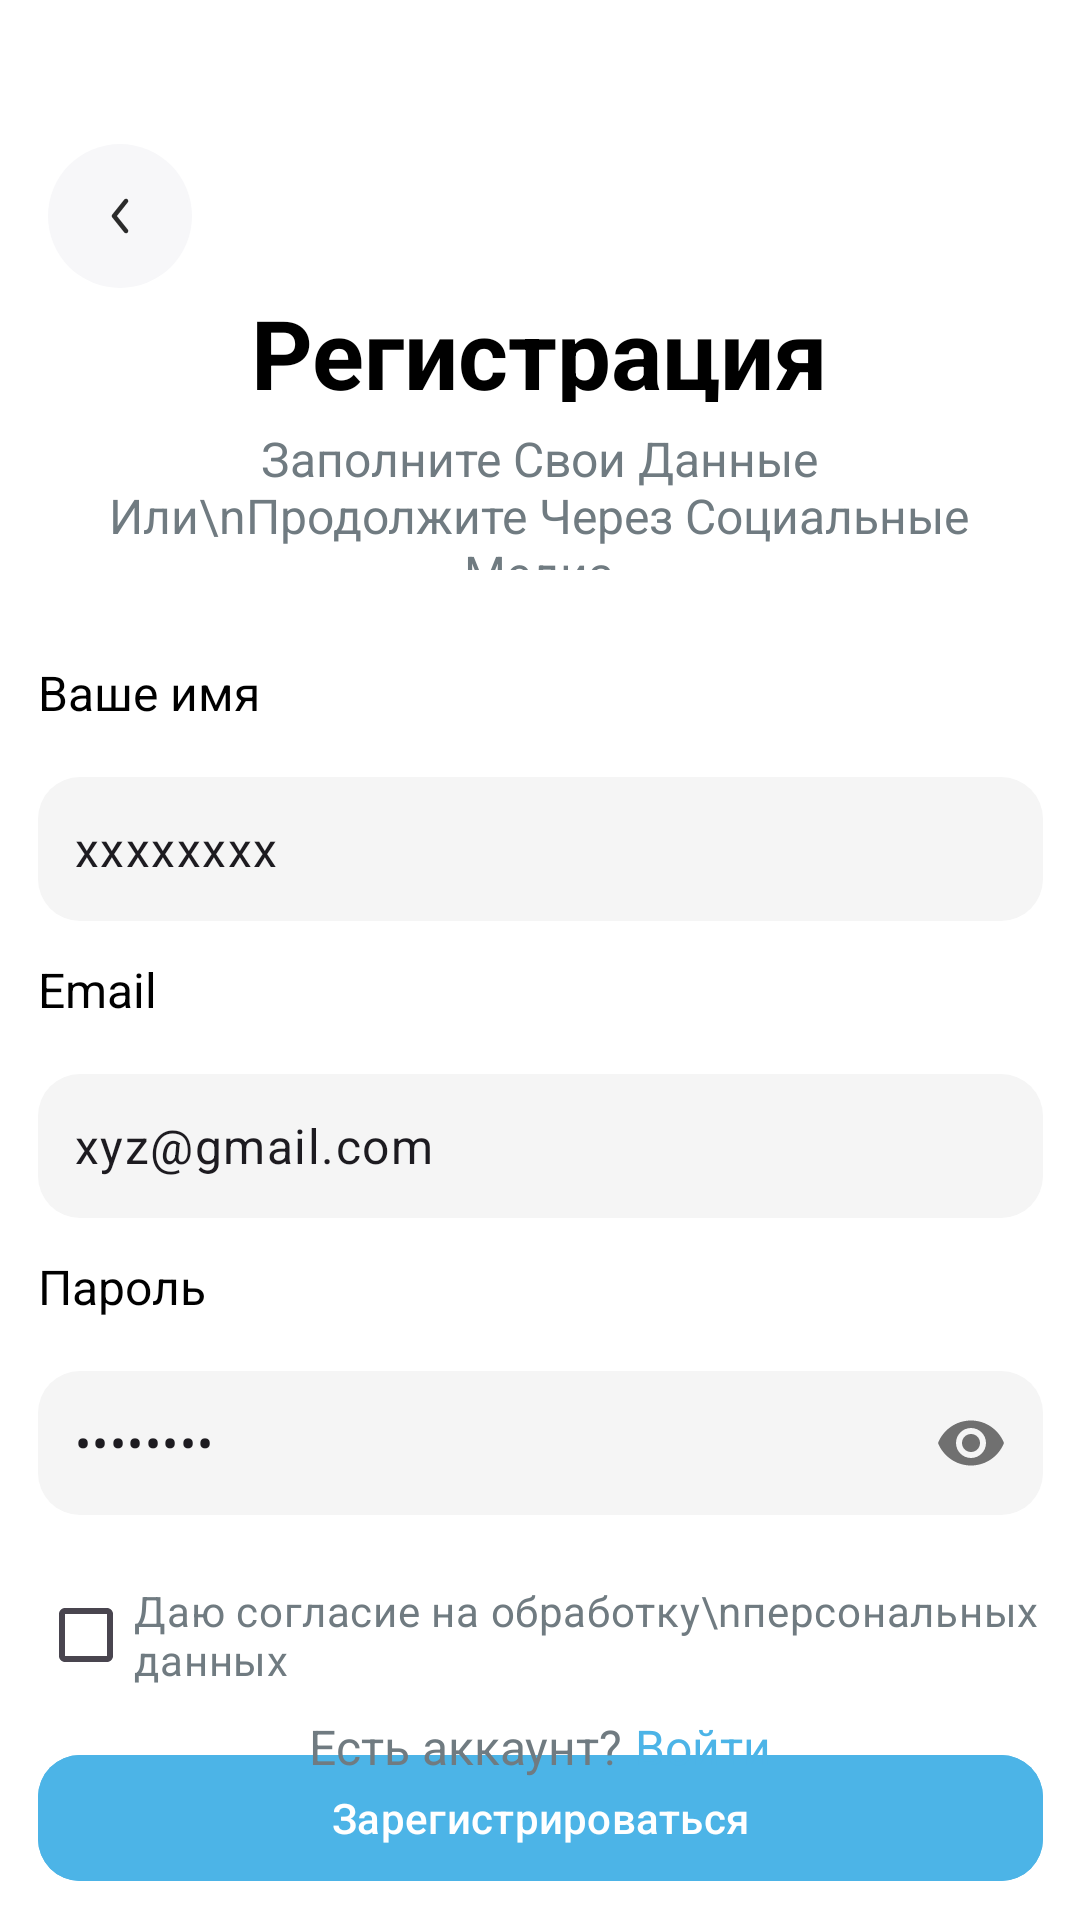

Icons on this 1080x1920 Android screen, each with its box as region(x1, y1, x2, y2):
back: region(111, 198, 129, 234)
